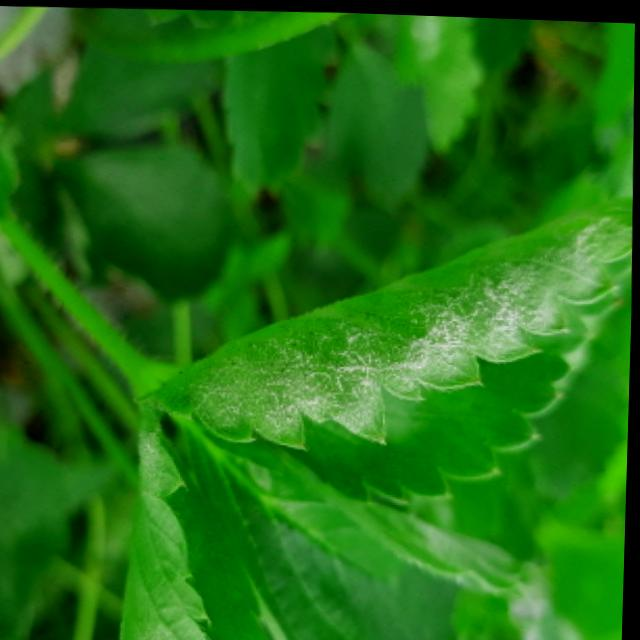Powdery Mildew Leaf: (144, 191, 633, 512), (176, 420, 538, 640), (121, 402, 274, 640)
